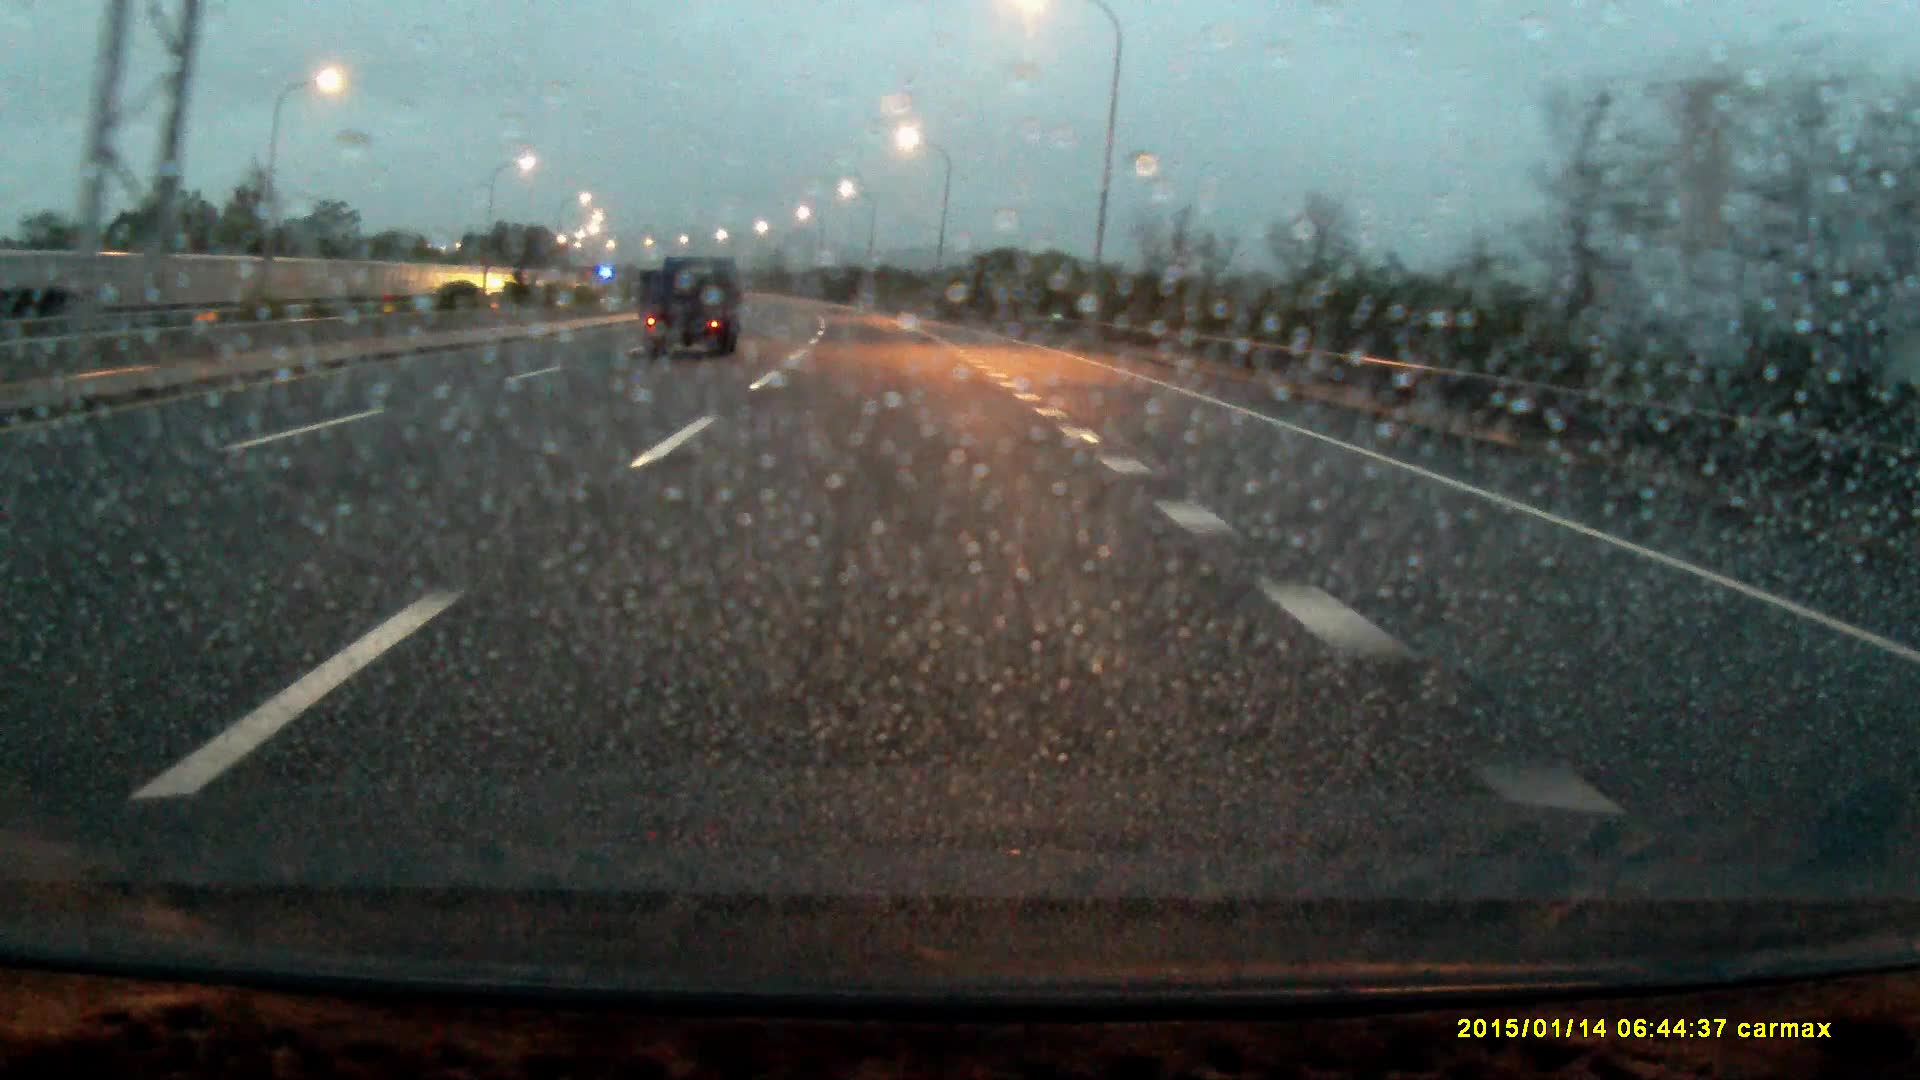vehicle: (641, 255, 745, 367), (1, 287, 99, 322)
